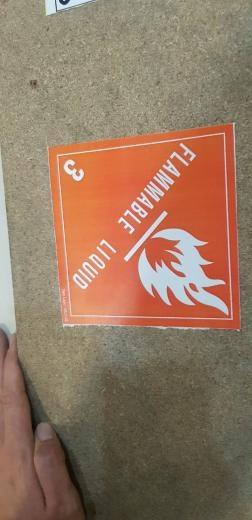flammable: (56, 129, 234, 329)
